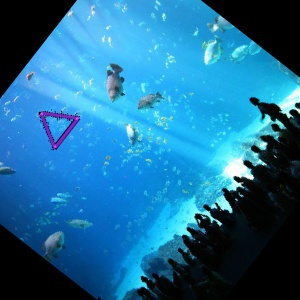triangle: (39, 110, 82, 150)
